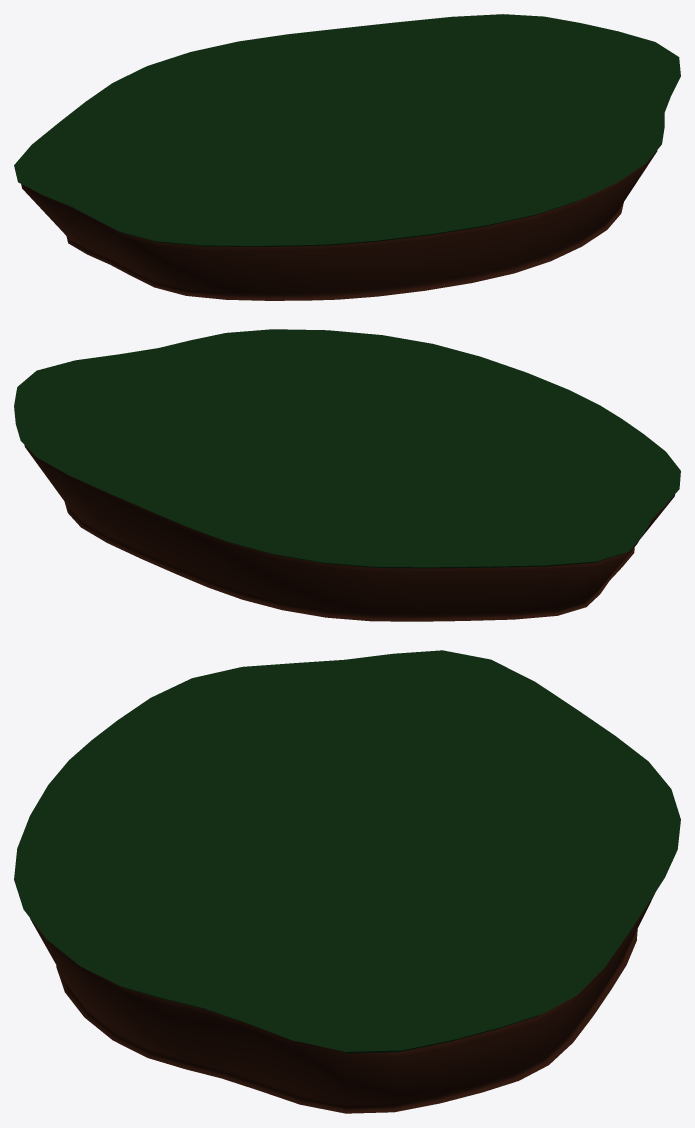
Rendered from isla_chinampa_corregida.obj.
The picture shows the model from 3 angles, top to bottom: view 1: azimuth 30°, elevation 25°; view 2: azimuth 150°, elevation 25°; view 3: azimuth 270°, elevation 25°; orthographic projection. The views are drawn at different scales.
Visible parts, largest first — view 1: isla; view 2: isla; view 3: isla.
Boxes of the visible parts, x1=… form: isla: x1=14, y1=14, x2=680, y2=300; isla: x1=14, y1=329, x2=680, y2=621; isla: x1=14, y1=650, x2=680, y2=1113.
Bounding box in the file's own units: 6.41 × 0.68 × 4.5.
